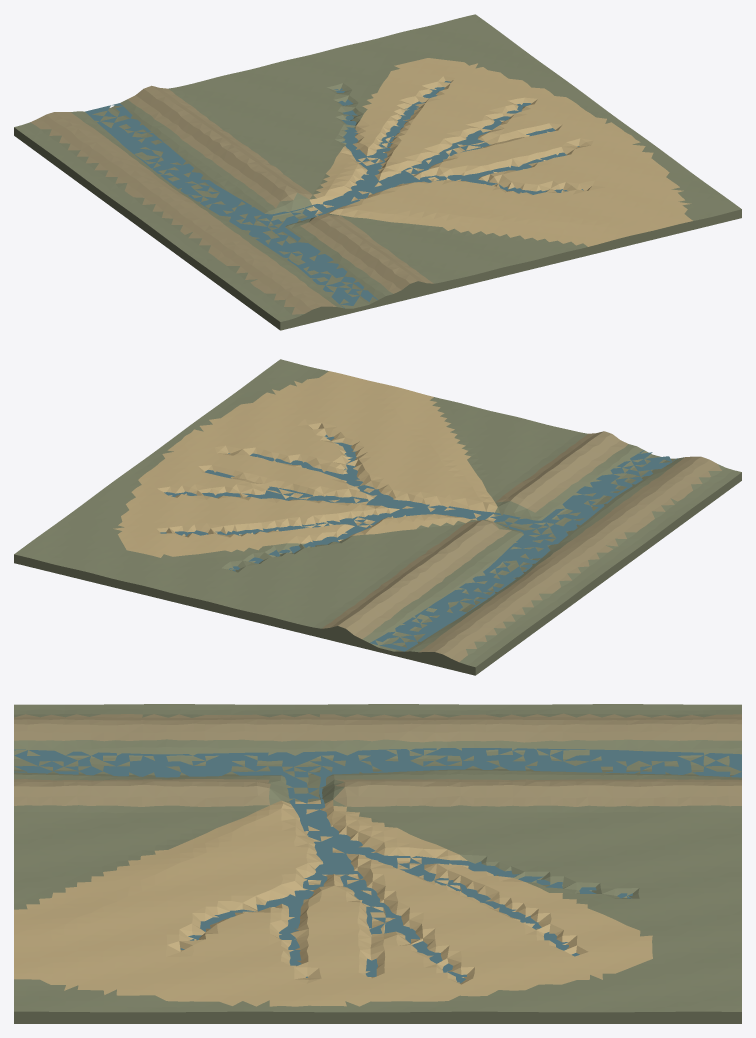
3 views of the same model, one above another, from view 1: azimuth 30°, elevation 25°; view 2: azimuth 150°, elevation 25°; view 3: azimuth 270°, elevation 25° (orthographic). The views are drawn at different scales.
Visible parts, largest first — view 1: integrated_breached_levee_fan_and_incised_floodplain, continuous_shallow_water_clipped_to_actual_channels; view 2: integrated_breached_levee_fan_and_incised_floodplain, continuous_shallow_water_clipped_to_actual_channels; view 3: integrated_breached_levee_fan_and_incised_floodplain, continuous_shallow_water_clipped_to_actual_channels.
Part boxes in pixels (x1=…): integrated_breached_levee_fan_and_incised_floodplain: x1=14, y1=14, x2=741, y2=330; continuous_shallow_water_clipped_to_actual_channels: x1=85, y1=81, x2=583, y2=308; integrated_breached_levee_fan_and_incised_floodplain: x1=14, y1=359, x2=741, y2=675; continuous_shallow_water_clipped_to_actual_channels: x1=160, y1=434, x2=677, y2=651; integrated_breached_levee_fan_and_incised_floodplain: x1=14, y1=704, x2=741, y2=1023; continuous_shallow_water_clipped_to_actual_channels: x1=14, y1=748, x2=741, y2=983.
Size of the model in its own units: 120 by 4.11 by 120.
